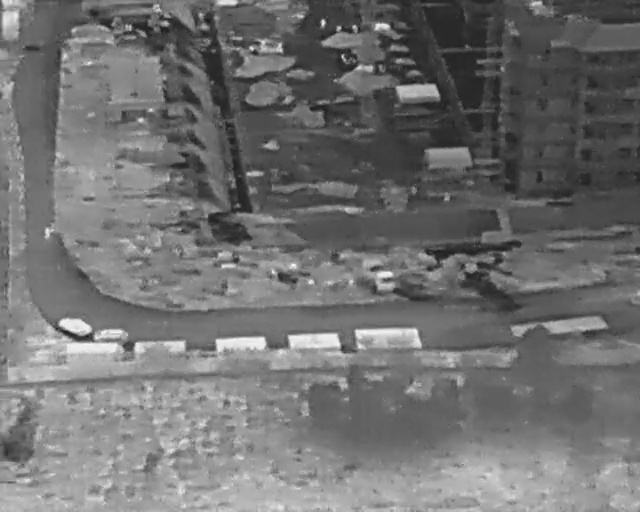Person: (44, 222, 52, 240), (320, 15, 327, 32), (335, 23, 343, 33)
